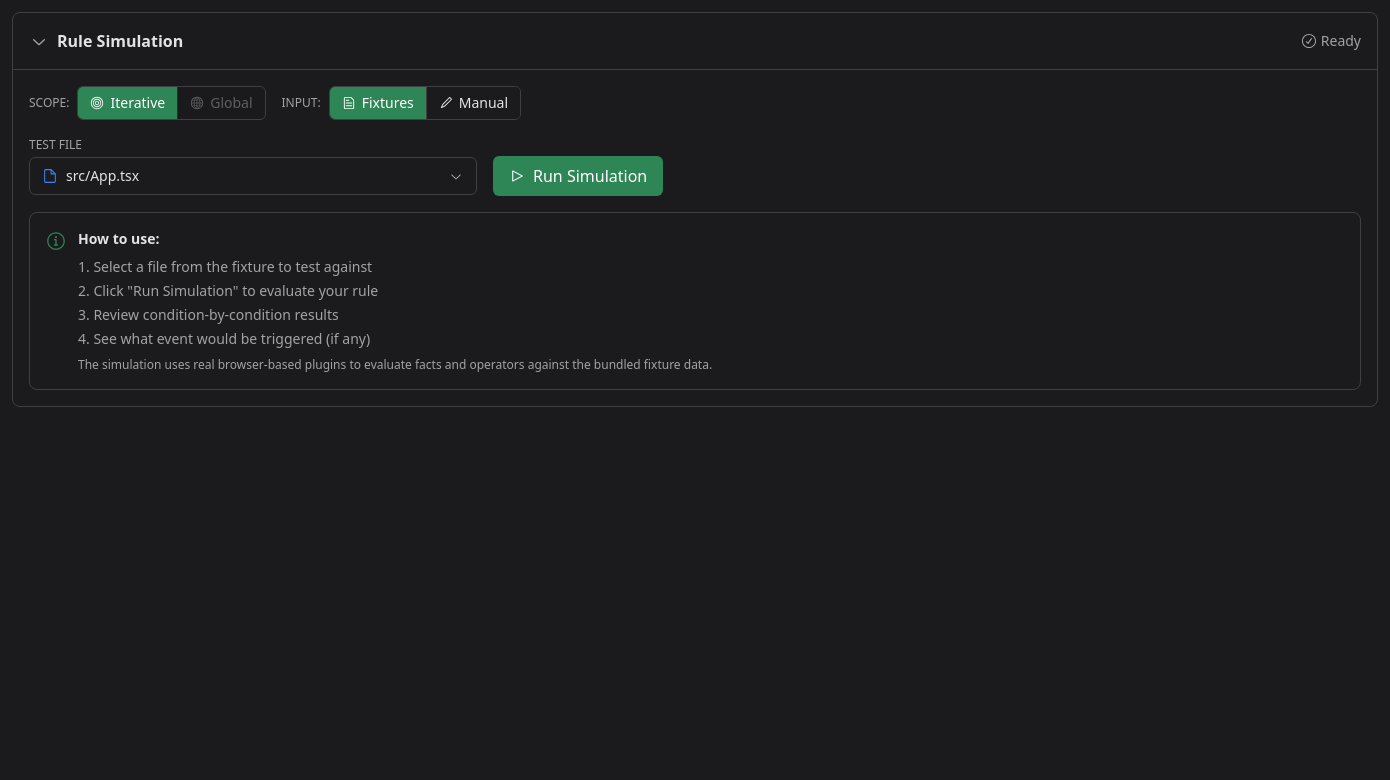
Test: SimulationPanel › Simulation Execution › should show results after simulation
The width and height of the screenshot is (1390, 780).
Step 1. Click the button "Run Simulation" → (578, 176), box [493,156,663,196]
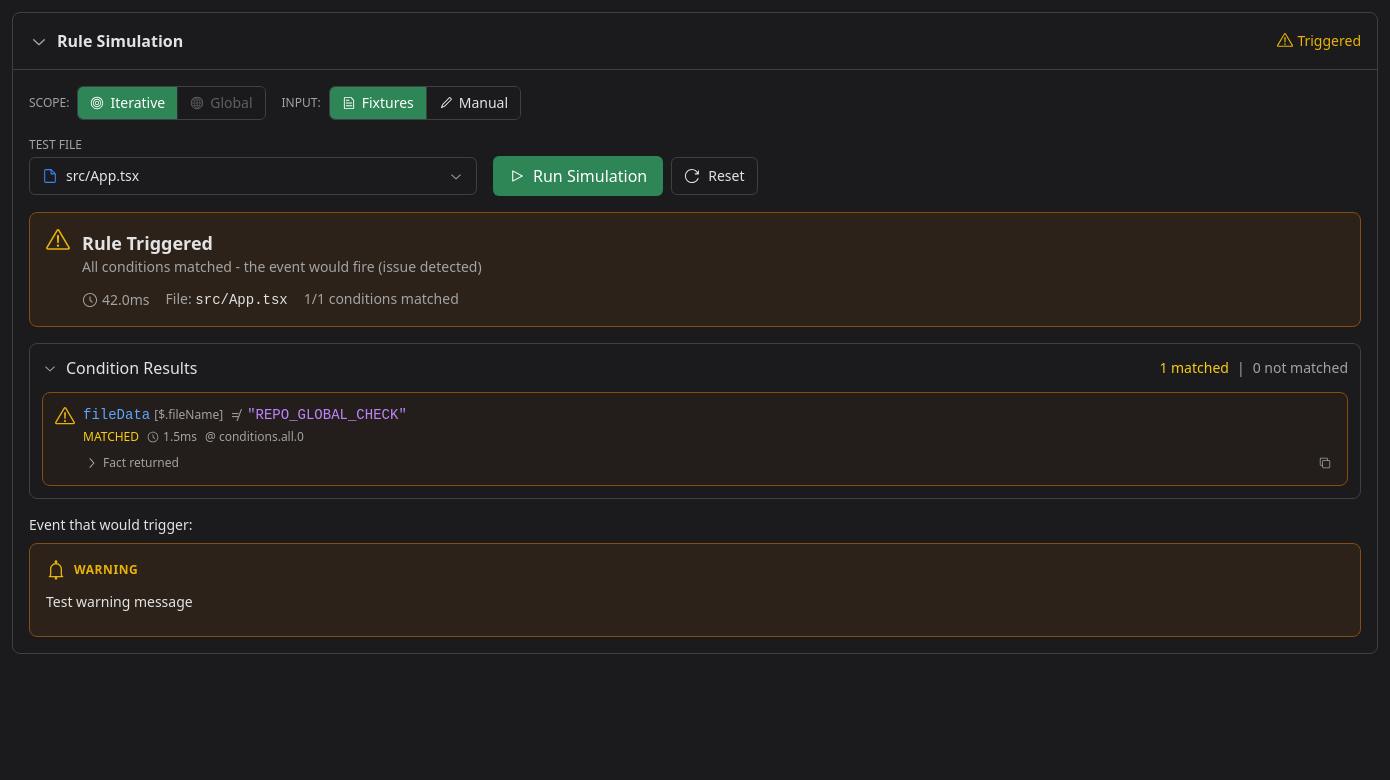
Now the heading "Rule Triggered" is shown, box [82,231,213,255]
